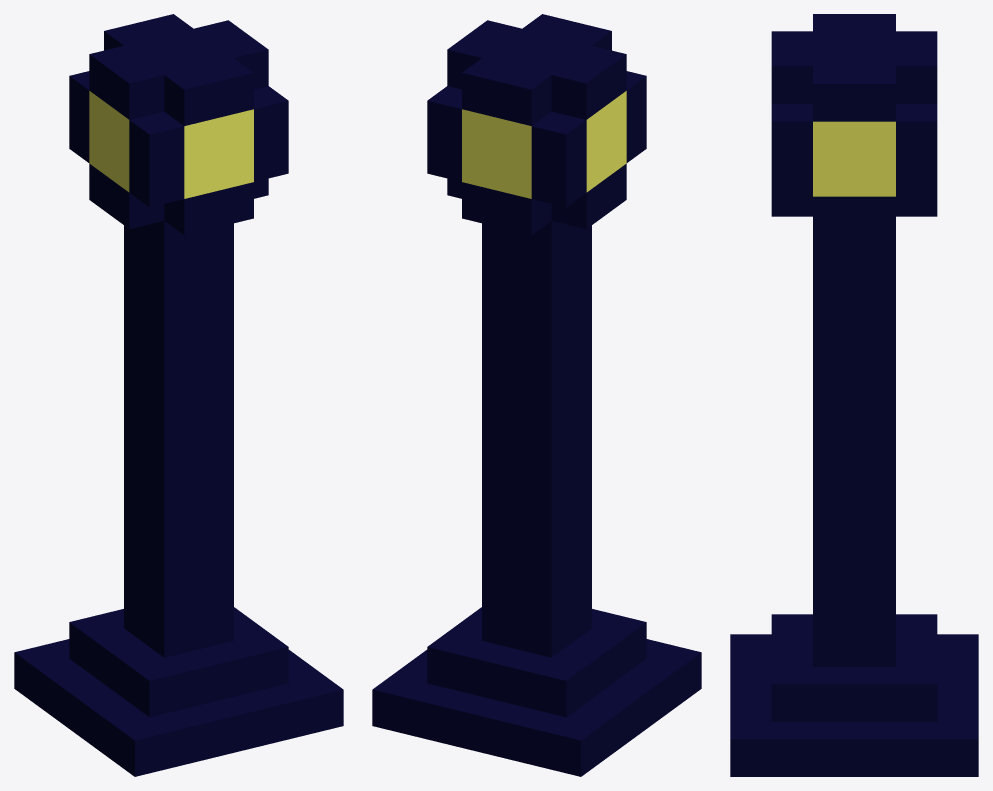
Rendered from lampadaire.obj.
3 views of the same model, side by side, from view 1: azimuth 30°, elevation 25°; view 2: azimuth 150°, elevation 25°; view 3: azimuth 270°, elevation 25° (orthographic). The views are drawn at different scales.
Size of the model in its own units: 0.6 by 1.8 by 0.6.
Materials: 1 (1 with a texture image).
